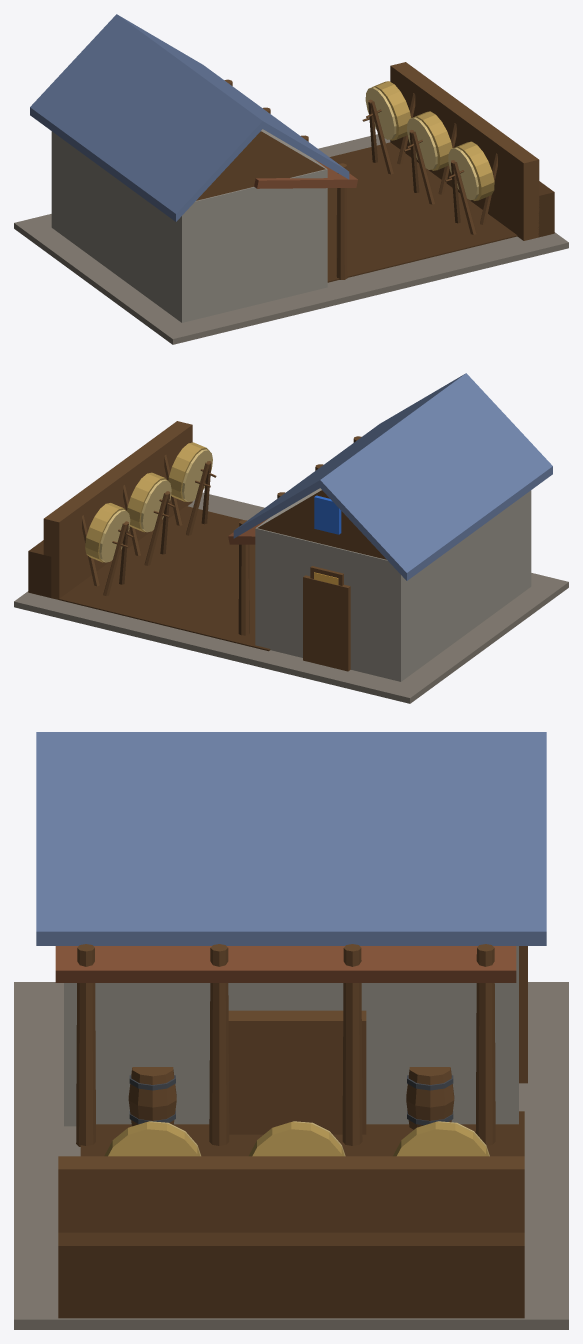
File: ArcheryRange.obj
3 views of the same model, one above another, from view 1: azimuth 30°, elevation 25°; view 2: azimuth 150°, elevation 25°; view 3: azimuth 270°, elevation 25° (orthographic). The views are drawn at different scales.
Visible parts, largest first — view 1: ArcheryRange_stone, ArcheryRange_roof_team, ArcheryRange_timber, ArcheryRange_soil, ArcheryRange_cobble, ArcheryRange_straw, ArcheryRange_target, ArcheryRange_roof_cedar; view 2: ArcheryRange_roof_team, ArcheryRange_stone, ArcheryRange_timber, ArcheryRange_soil, ArcheryRange_cobble, ArcheryRange_straw, ArcheryRange_target, ArcheryRange_banner_team; view 3: ArcheryRange_roof_team, ArcheryRange_timber, ArcheryRange_soil, ArcheryRange_cobble, ArcheryRange_stone, ArcheryRange_roof_cedar, ArcheryRange_straw, ArcheryRange_iron.
Part boxes in pixels (x1,y1,x2,y2): ArcheryRange_stone: [51, 129, 327, 322]; ArcheryRange_roof_team: [30, 14, 349, 221]; ArcheryRange_timber: [196, 62, 539, 279]; ArcheryRange_soil: [327, 142, 554, 282]; ArcheryRange_cobble: [14, 134, 568, 344]; ArcheryRange_straw: [372, 81, 494, 200]; ArcheryRange_target: [365, 87, 478, 200]; ArcheryRange_roof_cedar: [254, 159, 357, 188]; ArcheryRange_roof_team: [233, 373, 552, 580]; ArcheryRange_stone: [255, 488, 531, 681]; ArcheryRange_timber: [43, 421, 386, 671]; ArcheryRange_soil: [28, 506, 270, 651]; ArcheryRange_cobble: [14, 492, 568, 703]; ArcheryRange_straw: [85, 442, 209, 562]; ArcheryRange_target: [99, 449, 212, 562]; ArcheryRange_banner_team: [314, 495, 341, 534]; ArcheryRange_roof_team: [36, 732, 546, 945]; ArcheryRange_timber: [58, 944, 527, 1232]; ArcheryRange_soil: [58, 1111, 524, 1318]; ArcheryRange_cobble: [14, 982, 568, 1329]; ArcheryRange_stone: [64, 946, 518, 1126]; ArcheryRange_roof_cedar: [55, 946, 516, 982]; ArcheryRange_straw: [104, 1122, 488, 1156]; ArcheryRange_iron: [129, 1075, 453, 1125].
Size of the model in its own units: 7.2 by 3.4 by 5.
